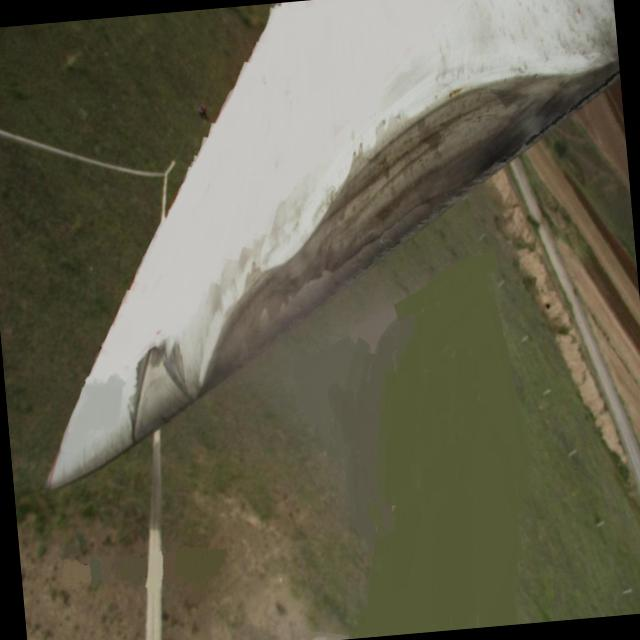surface_peeling: (189, 191, 390, 382), (377, 65, 597, 238), (113, 343, 201, 448)
